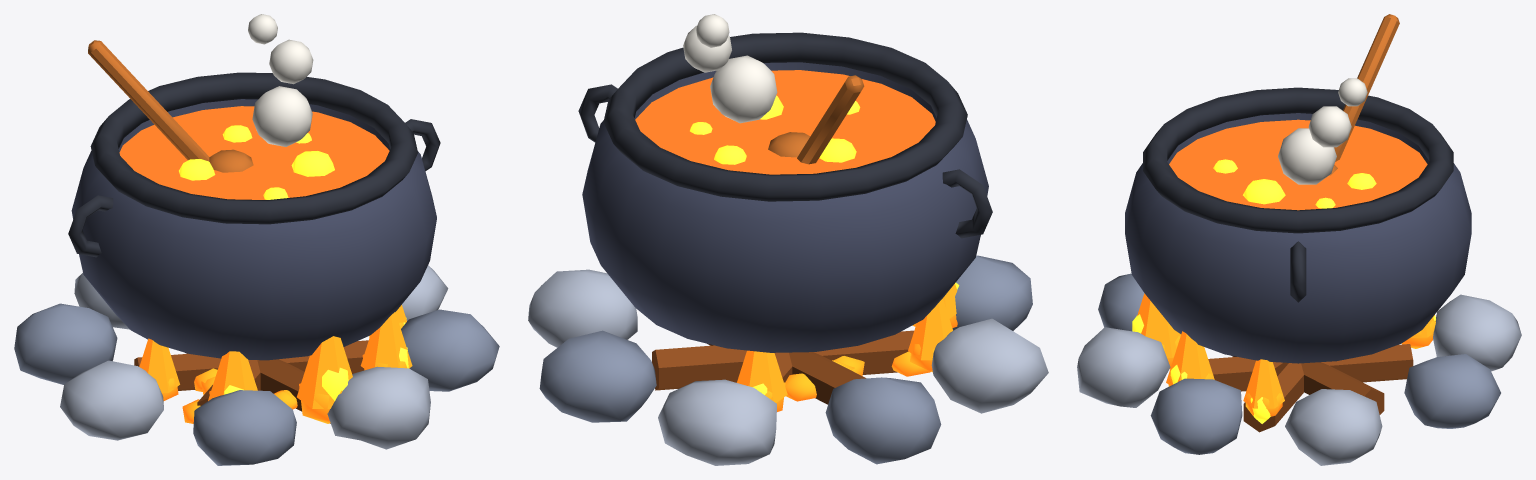
File: kitchen.glb
3 renders of one model, left to right at view 1: azimuth 30°, elevation 25°; view 2: azimuth 150°, elevation 25°; view 3: azimuth 270°, elevation 25°, orthographic. The views are drawn at different scales.
Visible parts, largest first — view 1: kitchen; view 2: kitchen; view 3: kitchen.
Part boxes in pixels (<box>): kitchen: <box>14,14,499,465</box>; kitchen: <box>528,14,1048,465</box>; kitchen: <box>1077,14,1521,465</box>.
Bounding box in the file's own units: 2.02 × 1.58 × 1.96.
